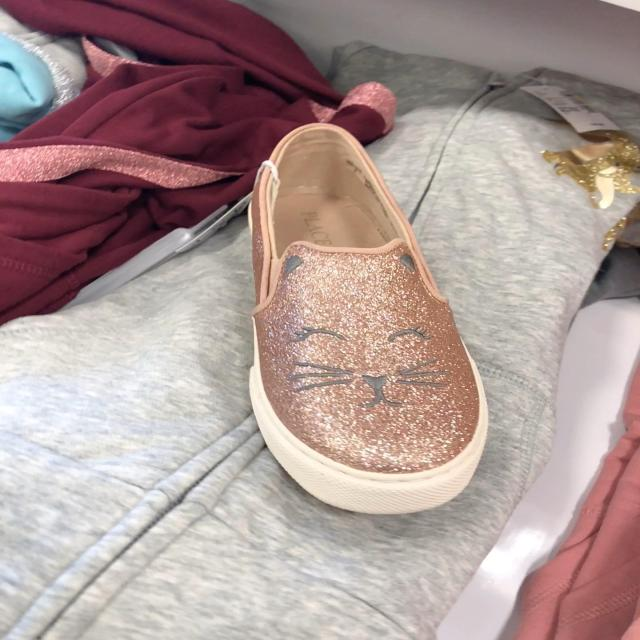shoe: (248, 124, 489, 517)
